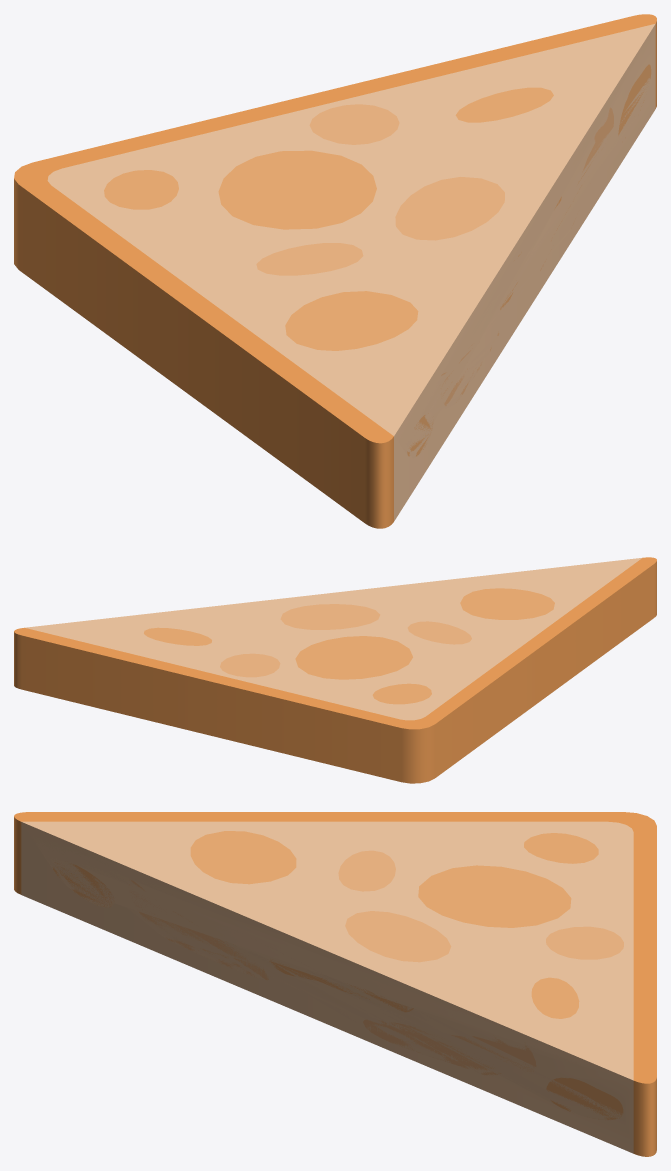
Rendered from Bread D.fbx.
The picture shows the model from 3 angles, top to bottom: view 1: azimuth 30°, elevation 25°; view 2: azimuth 150°, elevation 25°; view 3: azimuth 270°, elevation 25°; orthographic projection. The views are drawn at different scales.
Visible parts, largest first — view 1: Bread D; view 2: Bread D; view 3: Bread D.
Boxes of the visible parts, <box> form: Bread D: <box>14,14,656,528</box>; Bread D: <box>14,557,656,783</box>; Bread D: <box>14,812,656,1156</box>.
Bounding box in the file's own units: 0.6276 × 0.0789 × 0.6276.
